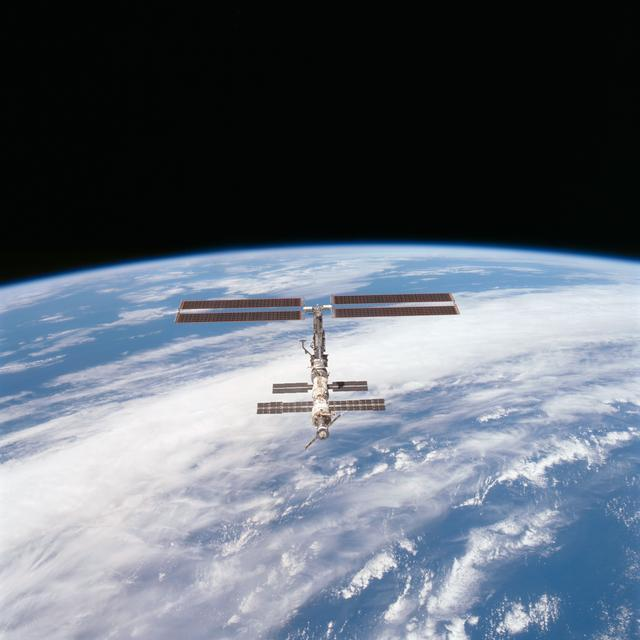satellite: (178, 292, 459, 439)
